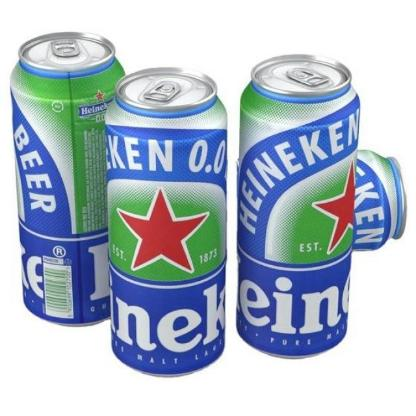Can: (235, 38, 374, 368), (96, 59, 234, 379), (2, 28, 134, 344)
